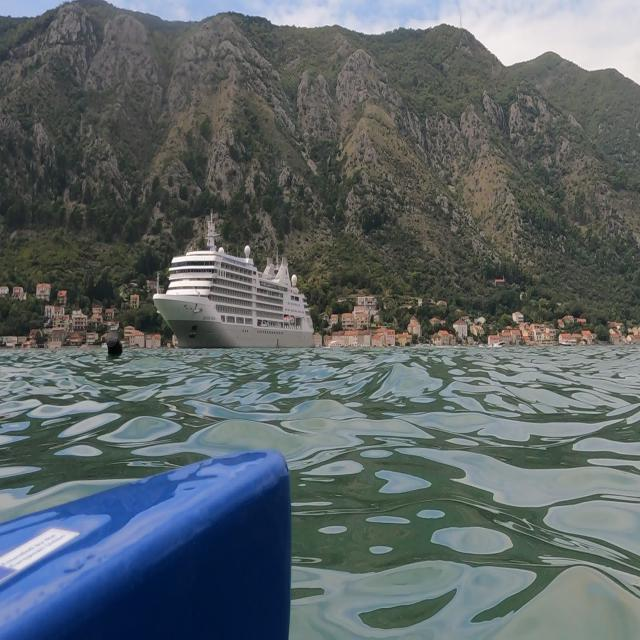boat: (151, 208, 317, 352)
buoy: (102, 316, 127, 366)
